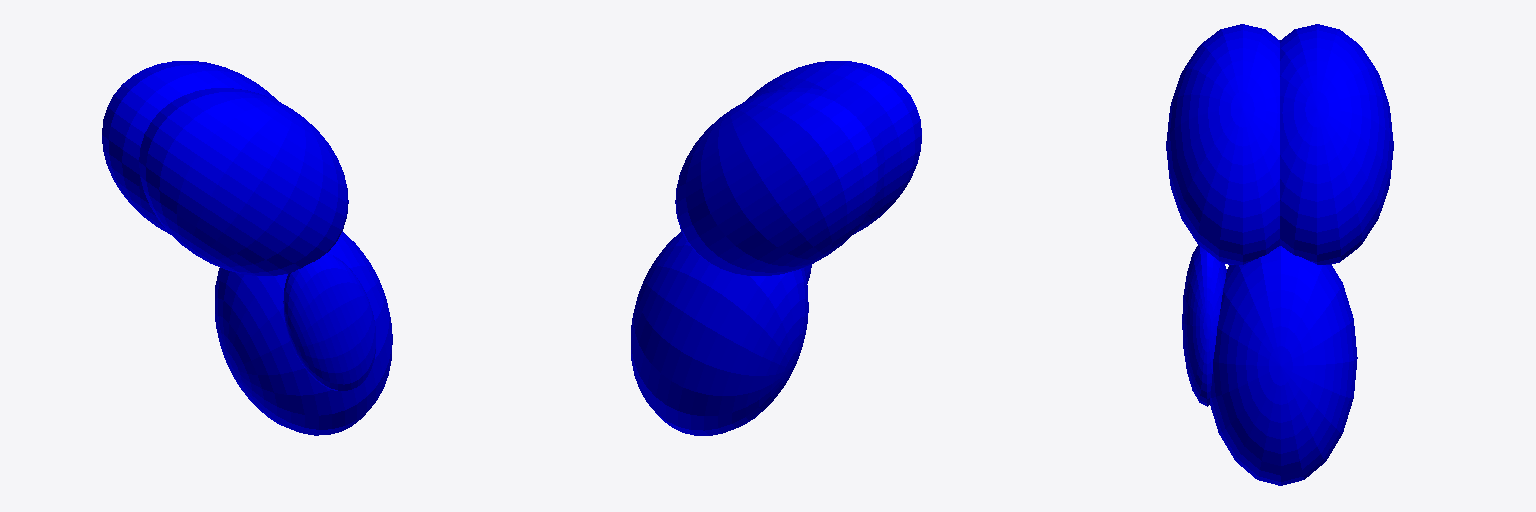
File: uphand1.obj
3 views of the same model, side by side, from view 1: azimuth 30°, elevation 25°; view 2: azimuth 150°, elevation 25°; view 3: azimuth 270°, elevation 25° (orthographic).
Visible parts, largest first — view 1: superman:polySurface9, superman:polySurface11, superman:polySurface12; view 2: superman:polySurface9, superman:polySurface11; view 3: superman:polySurface9, superman:polySurface11, superman:polySurface12.
Boxes of the visible parts, x1=… form: superman:polySurface9: x1=102, y1=61, x2=348, y2=275; superman:polySurface11: x1=215, y1=231, x2=392, y2=435; superman:polySurface12: x1=283, y1=253, x2=375, y2=390; superman:polySurface9: x1=675, y1=61, x2=921, y2=275; superman:polySurface11: x1=631, y1=231, x2=808, y2=435; superman:polySurface9: x1=1166, y1=24, x2=1393, y2=264; superman:polySurface11: x1=1210, y1=246, x2=1357, y2=485; superman:polySurface12: x1=1182, y1=245, x2=1226, y2=406.
Size of the model in its own units: 2.06 by 2.92 by 1.58.